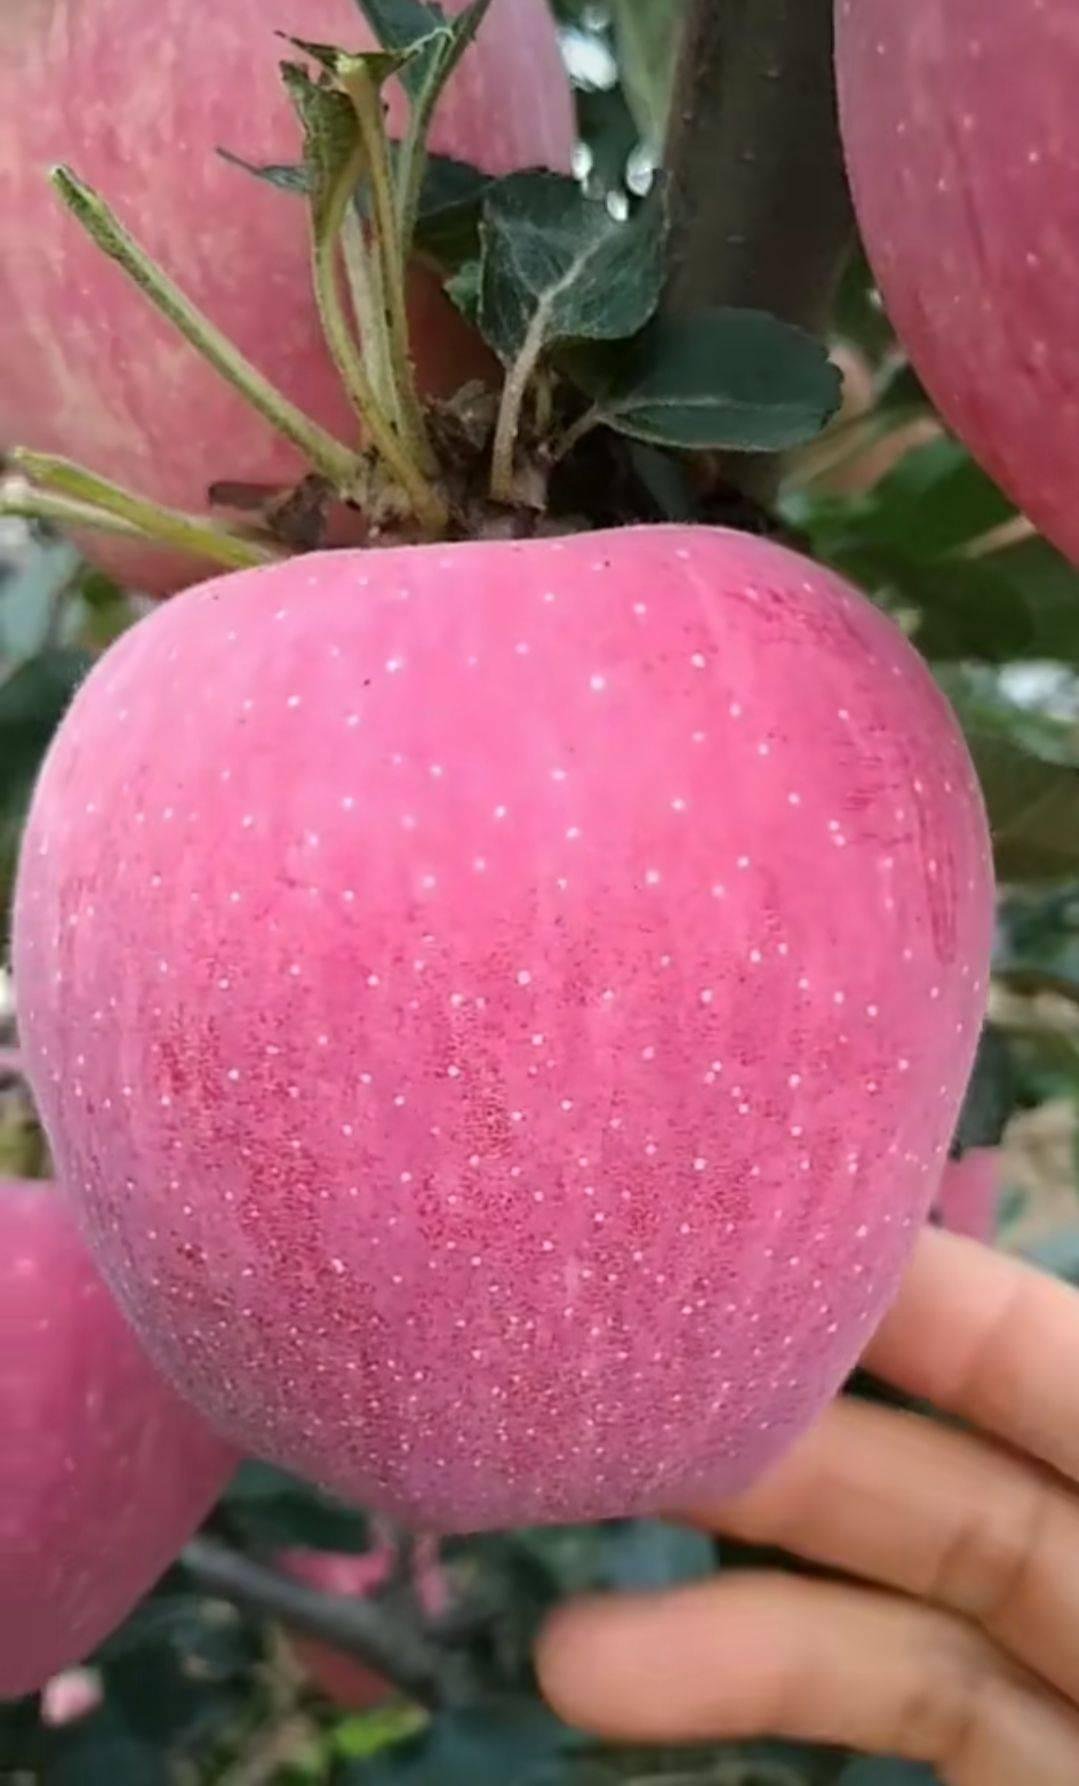apple: (6, 524, 996, 1533)
